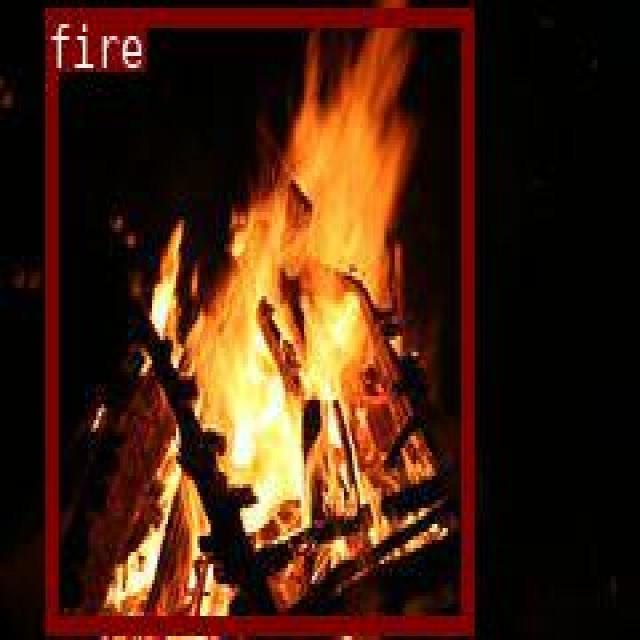fire: (45, 8, 471, 630)
